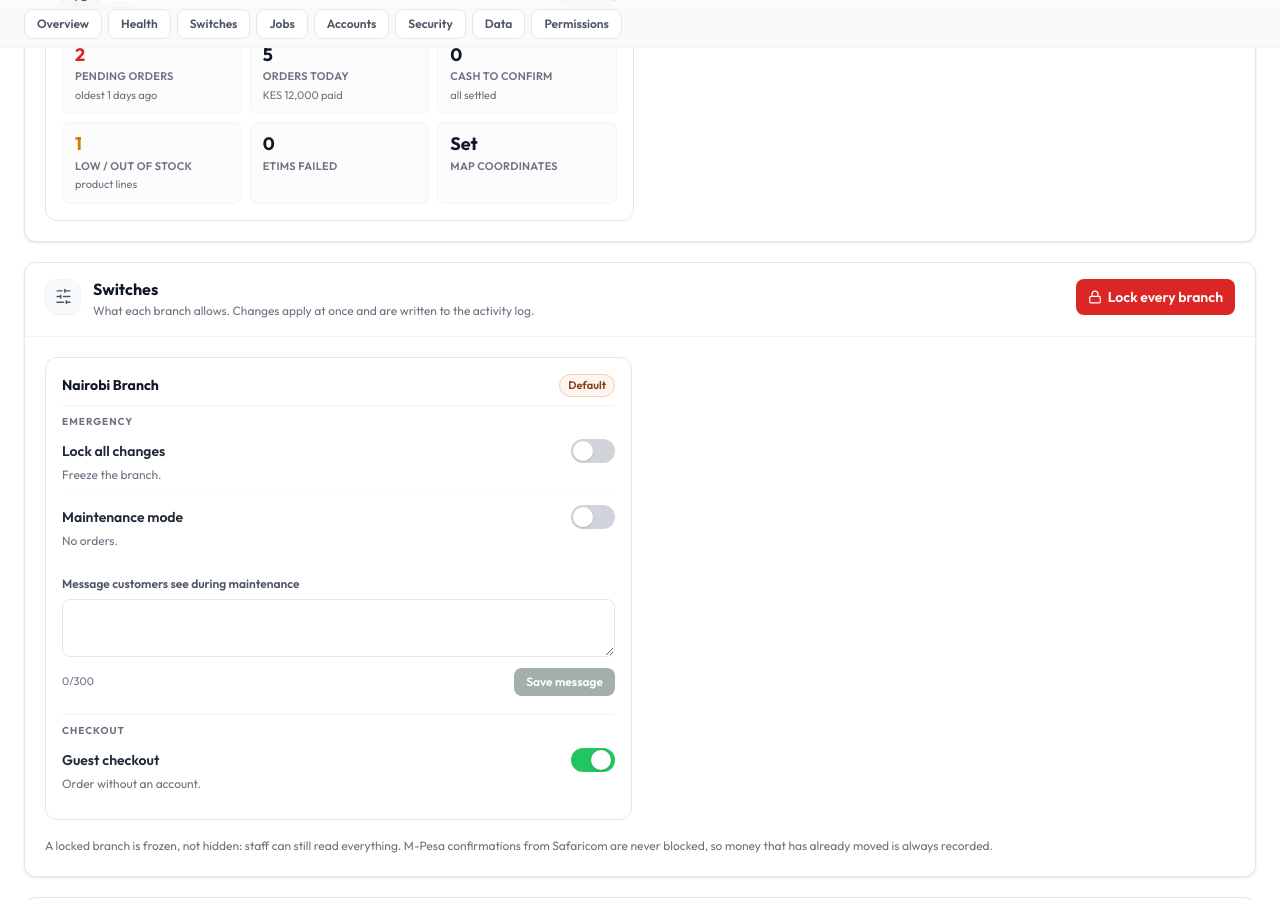
Test: ControlCenterPage › a risky switch asks for the password first, and sends it
The width and height of the screenshot is (1280, 900).
(page scrolled)
Click the switch named "Lock all changes" in the row of "Lock all changes" at (593, 450), box [571,438,615,462]
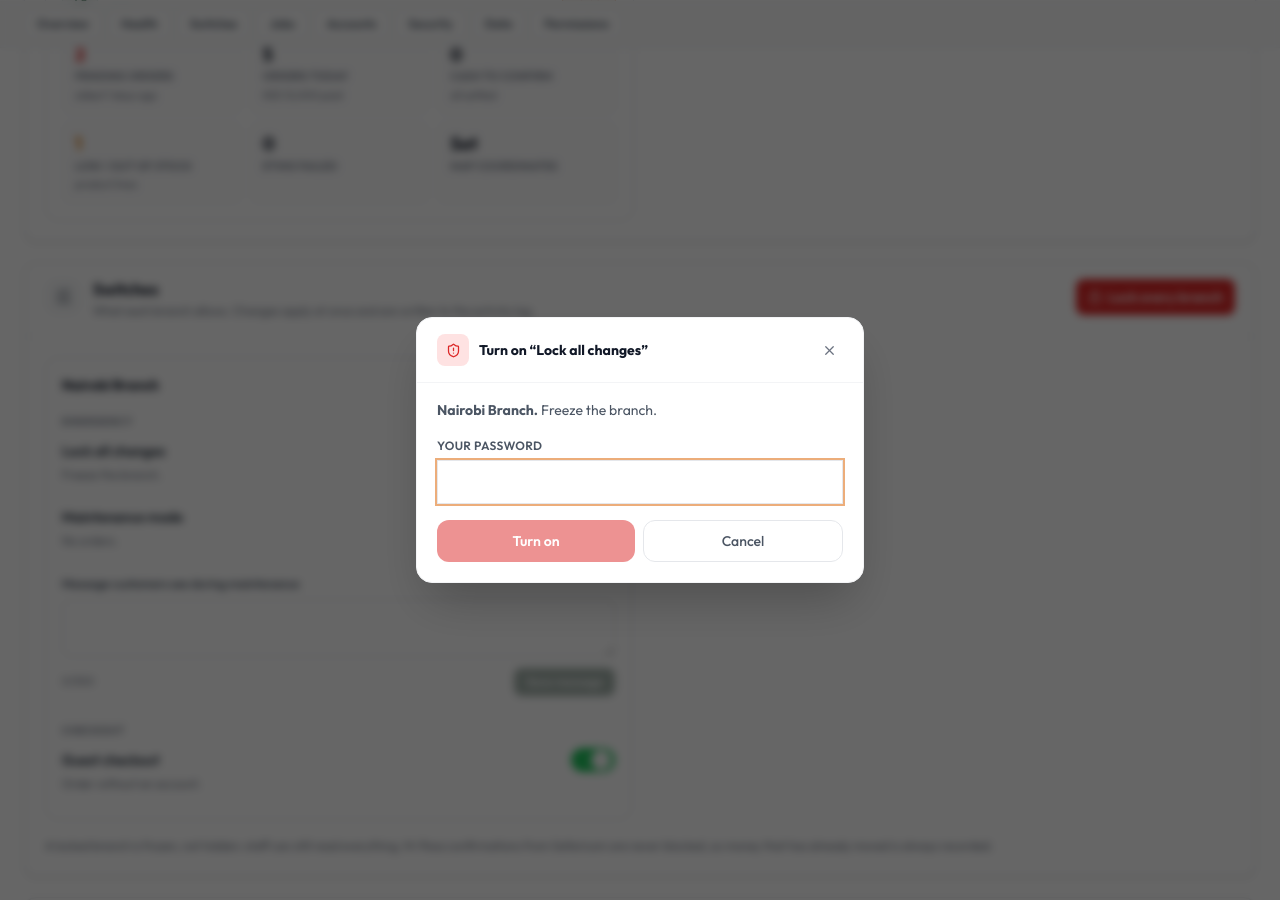
Type "s3cret-pass" into the password field labelled "Your password" at (640, 482), box [437,460,843,504]
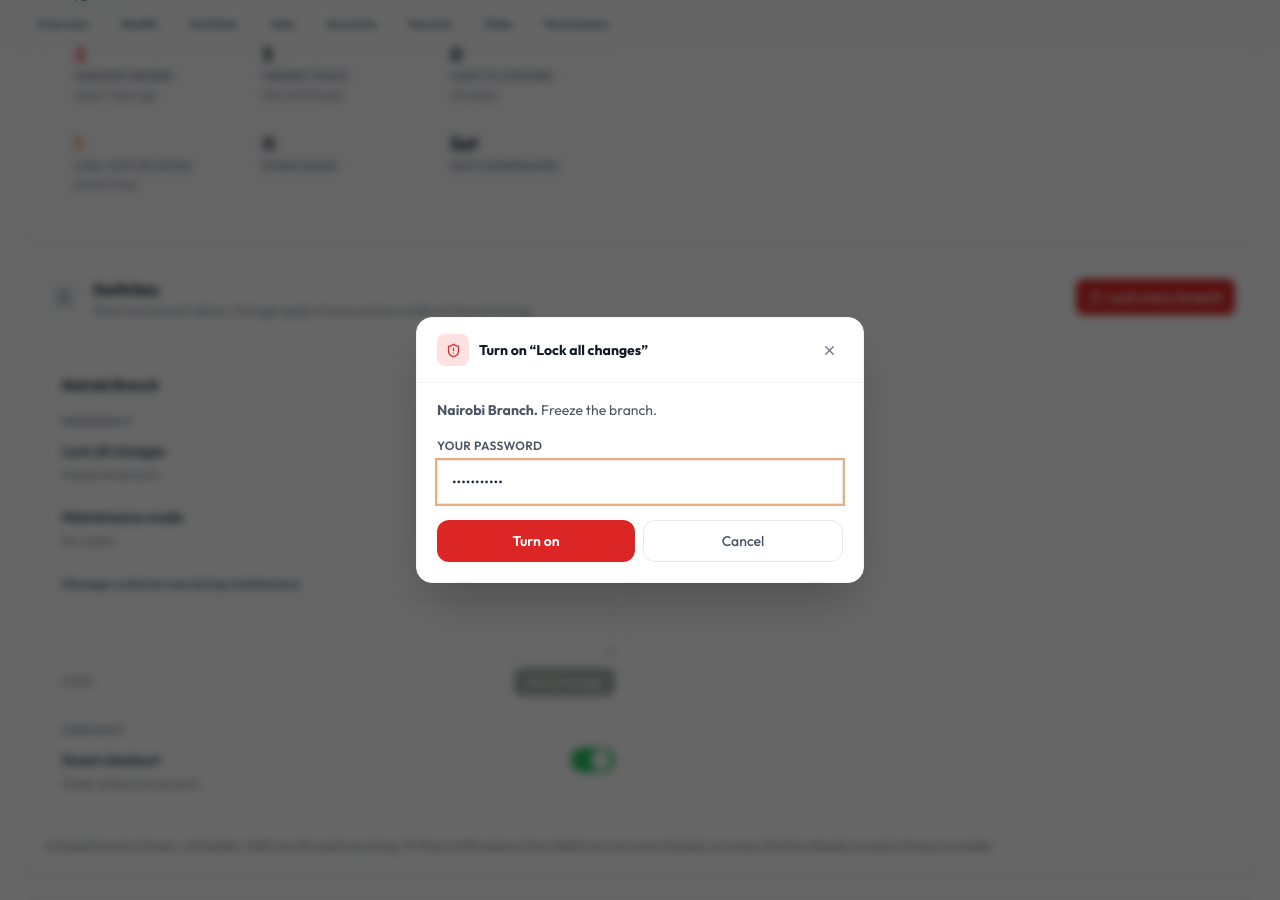
Click the button "Turn on" at (536, 541), box [437,520,635,562]
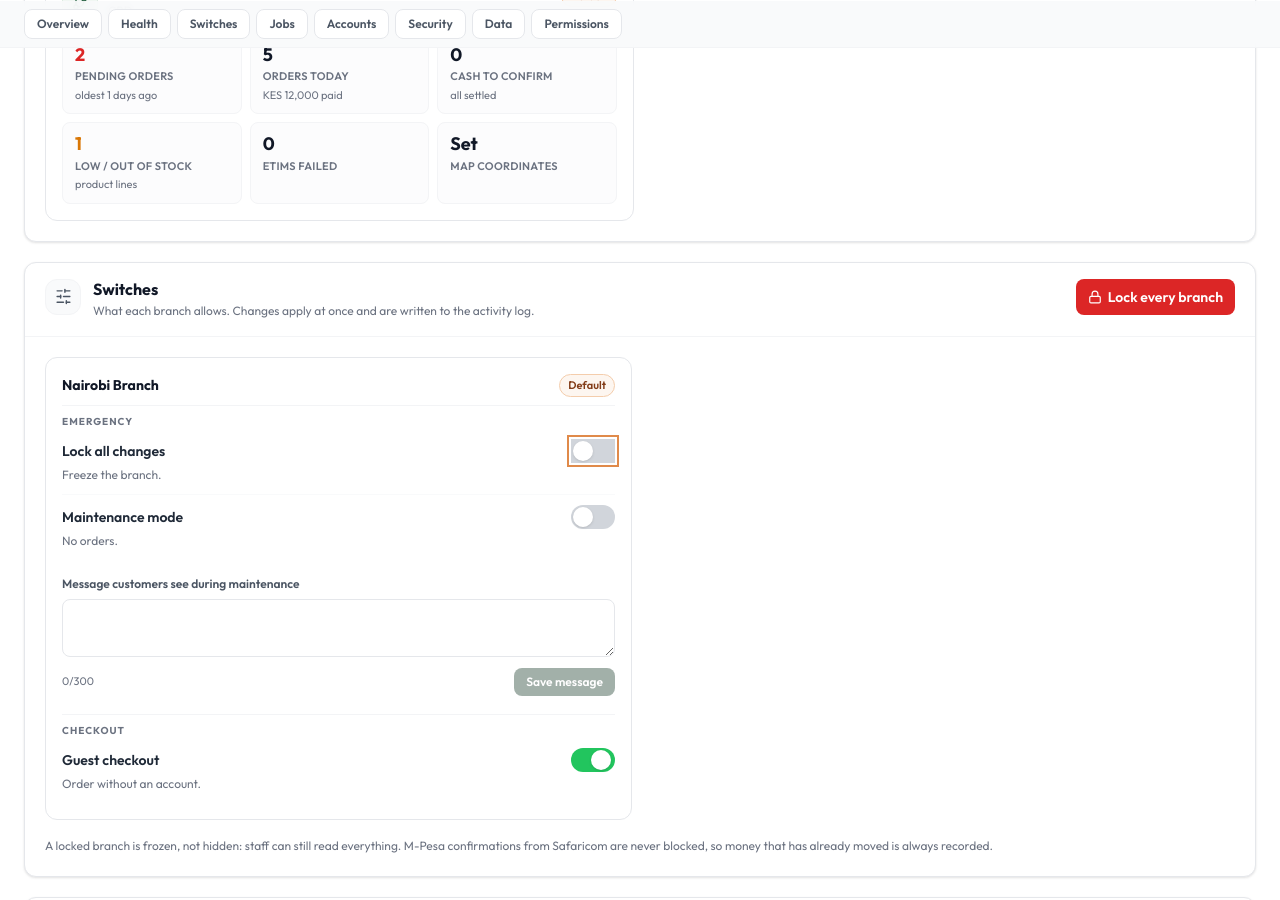
Check: the dialog is gone
